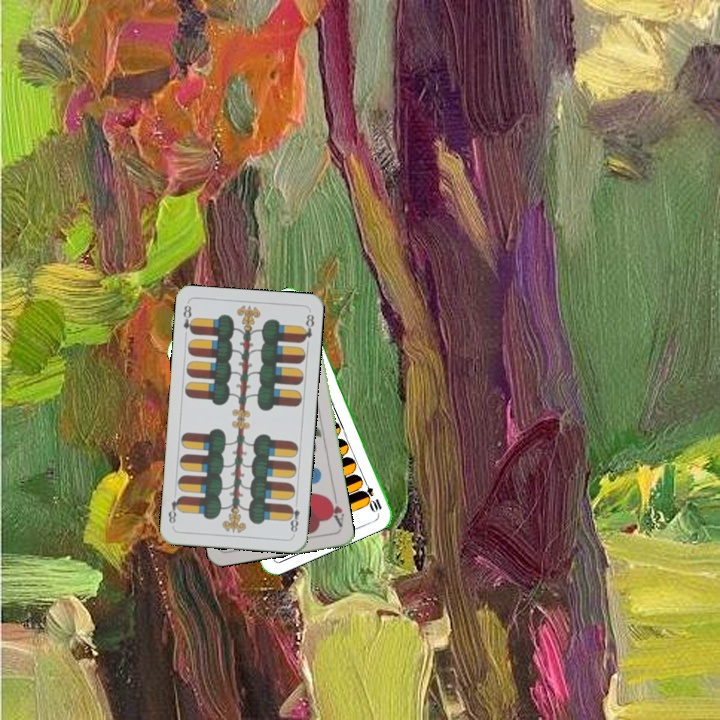E10: (358, 475, 385, 514)
E8: (284, 501, 302, 537), (179, 301, 197, 337)
HA: (323, 490, 346, 530)
